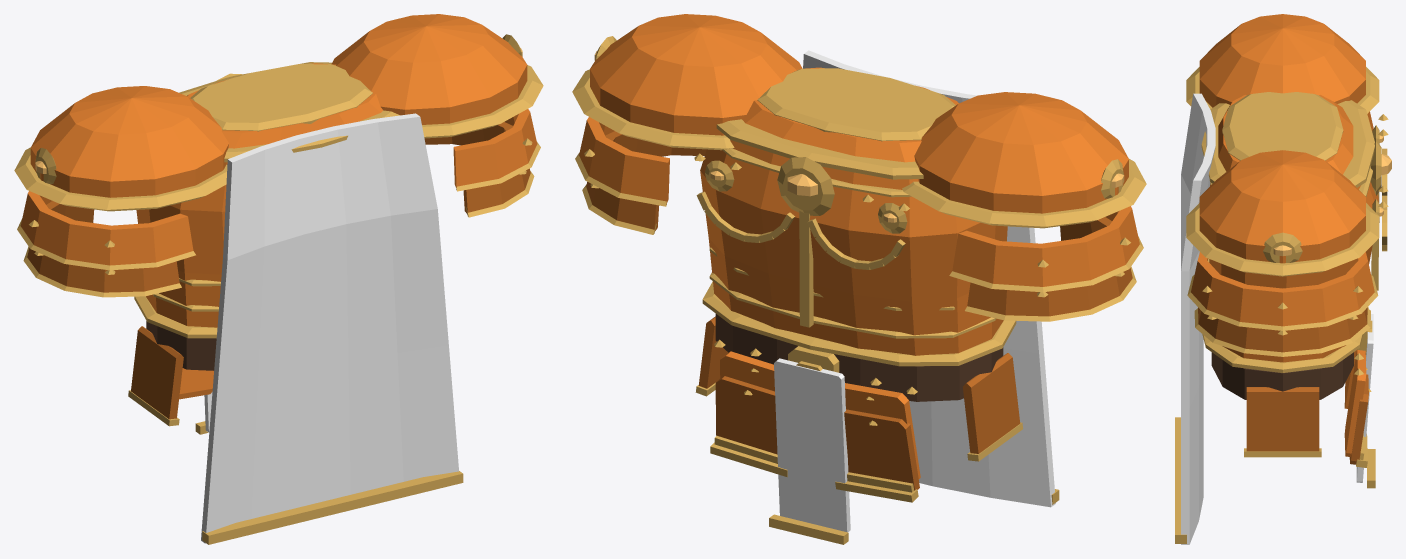
File: look3_armor_greatsword_legendary.fbx
3 views of the same model, side by side, from view 1: azimuth 30°, elevation 25°; view 2: azimuth 150°, elevation 25°; view 3: azimuth 270°, elevation 25° (orthographic). The views are drawn at different scales.
Visible parts, largest first — view 1: Main, Tasset; view 2: Main, Tasset; view 3: Main, Tasset.
Part boxes in pixels (x1=…): Main: x1=14, y1=14, x2=543, y2=544; Tasset: x1=128, y1=326, x2=213, y2=434; Main: x1=572, y1=14, x2=1146, y2=507; Tasset: x1=695, y1=316, x2=1023, y2=544; Main: x1=1175, y1=14, x2=1391, y2=544; Tasset: x1=1244, y1=314, x2=1375, y2=488.
Bounding box in the file's own units: 456 × 355 × 179.
